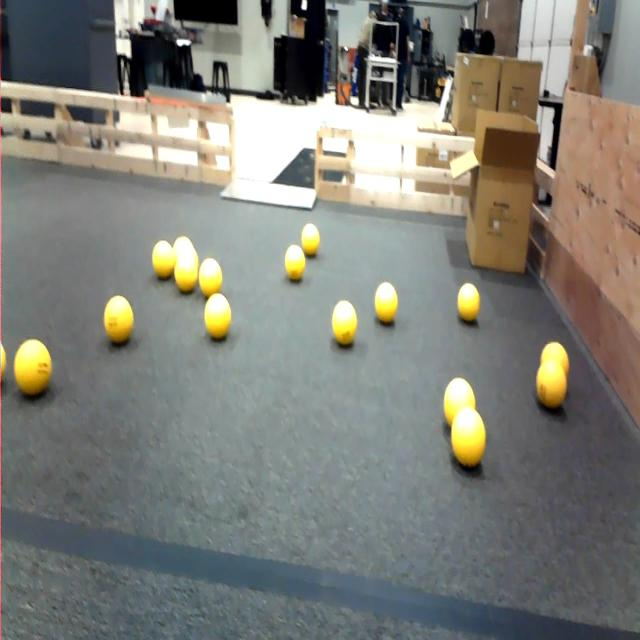fuel: (14, 339, 51, 396), (451, 408, 485, 467), (444, 378, 475, 426), (536, 360, 566, 409), (104, 296, 133, 343), (204, 294, 231, 339), (332, 301, 357, 345), (174, 250, 198, 293), (540, 342, 569, 376), (199, 258, 222, 298), (375, 282, 397, 323), (152, 240, 175, 279), (458, 283, 480, 322), (285, 245, 305, 280), (301, 224, 319, 255), (173, 236, 194, 255), (0, 344, 6, 381)
